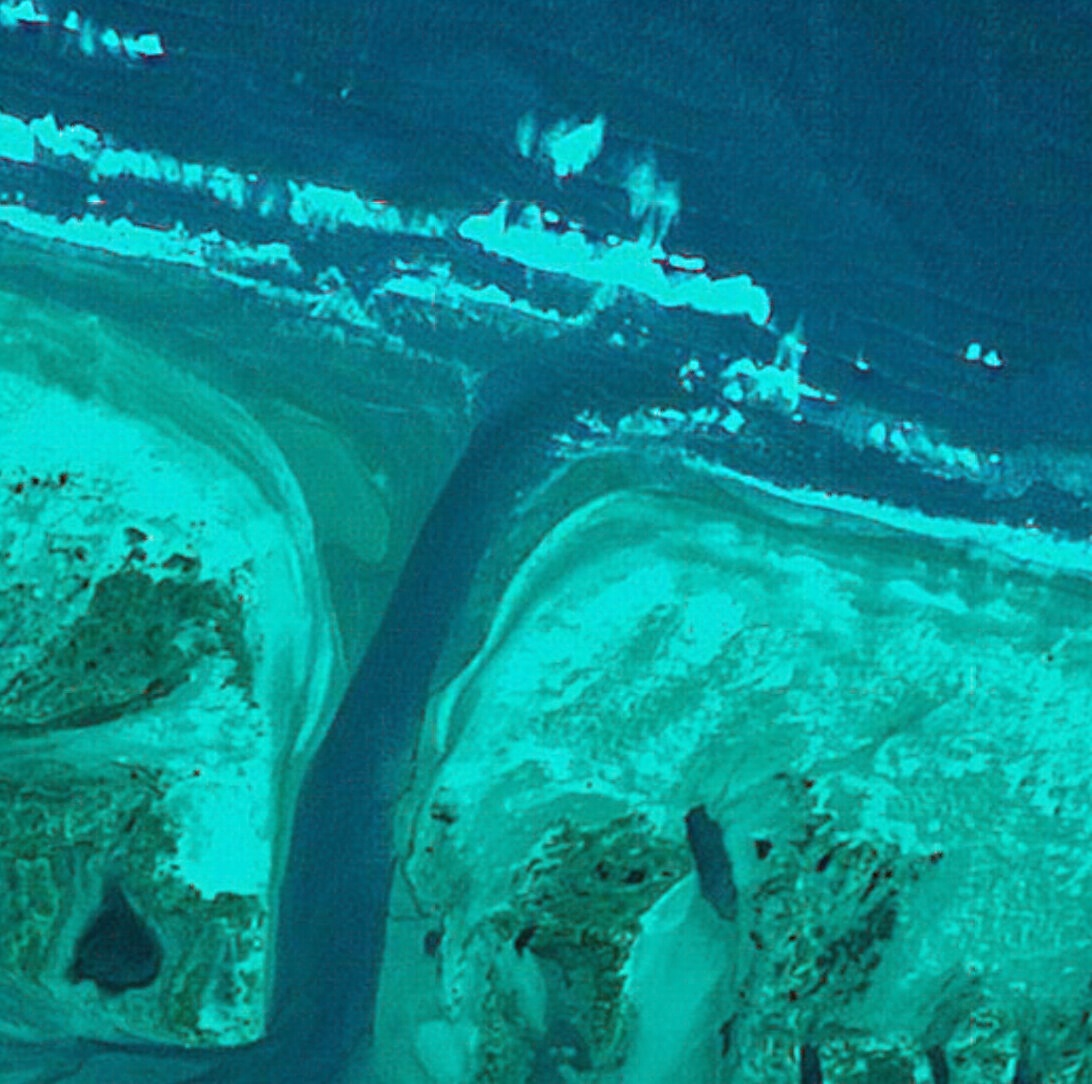rip_current: (587, 261, 832, 435)
